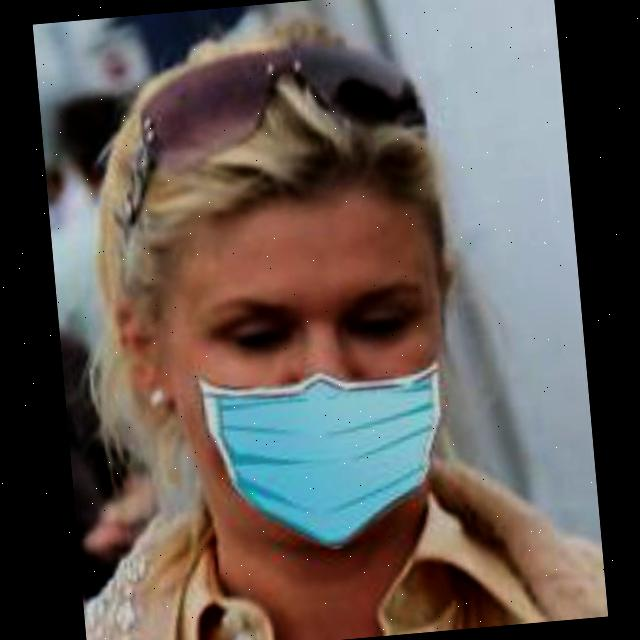suspicion: (70, 121, 472, 588)
